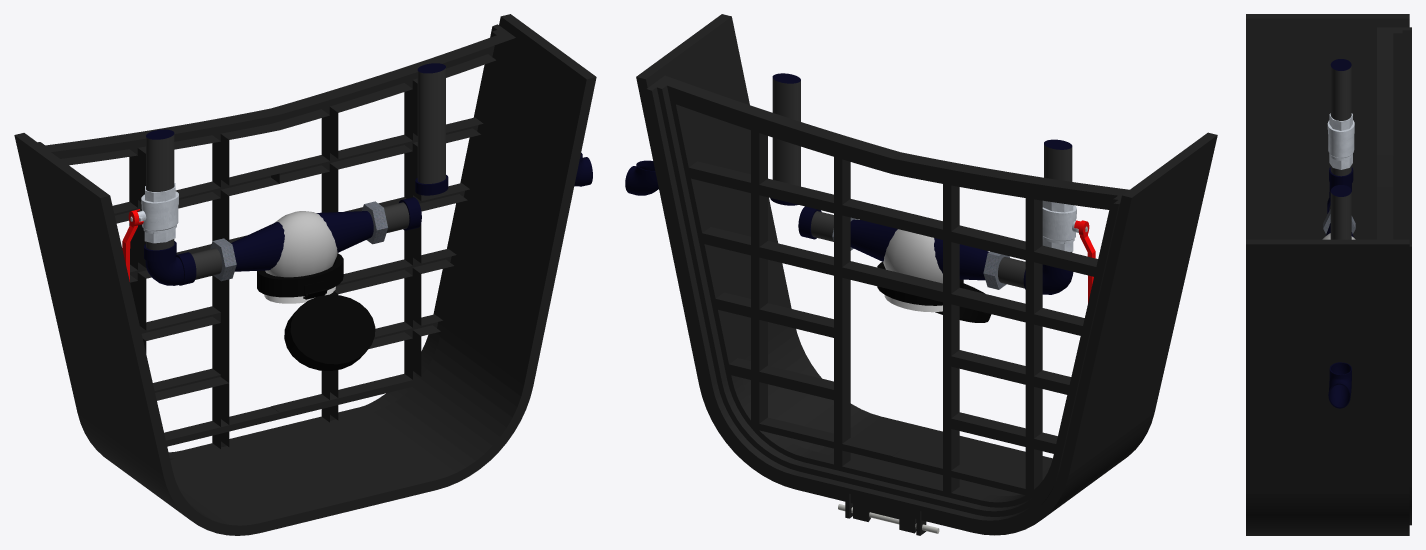
File: RegistroMedidor.fbx
The picture shows the model from 3 angles, left to right: view 1: azimuth 30°, elevation 25°; view 2: azimuth 150°, elevation 25°; view 3: azimuth 270°, elevation 25°; orthographic projection. The views are drawn at different scales.
Visible parts, largest first — view 1: group_ 3.028, group_ 5.015, group_ 2.056, group_ 3.027, group_.111, group_sphere, group_.109, group_.103, group_ 2.048, group_.106, group_ 2.050, group_ 3.026 (+2 smaller); view 2: group_ 5.015, group_ 2.056, group_ 3.028, group_.111, group_sphere, group_ 2.048, group_ 2.050, group_ 3.026, group_.109, group_.103, Toinzinho Velludo.001; view 3: group_ 3.028, group_ 2.056, group_ 5.015, group_.109, group_ 2.048, group_.111, Toinzinho Velludo.001.
Boxes of the visible parts, x1,y1,x2,y2 form: group_ 3.028: [280, 14, 596, 511]; group_ 5.015: [38, 24, 515, 472]; group_ 2.056: [14, 133, 348, 535]; group_ 3.027: [284, 294, 375, 370]; group_.111: [415, 63, 448, 195]; group_sphere: [265, 211, 337, 277]; group_.109: [144, 129, 176, 261]; group_.103: [231, 222, 284, 271]; group_ 2.048: [137, 183, 178, 243]; group_.106: [257, 253, 343, 297]; group_ 2.050: [316, 211, 373, 252]; group_ 3.026: [191, 238, 236, 281]; group_ 5.015: [646, 75, 1129, 525]; group_ 2.056: [884, 132, 1217, 535]; group_ 3.028: [636, 14, 969, 510]; group_.111: [770, 73, 800, 205]; group_sphere: [883, 229, 942, 283]; group_ 2.048: [1042, 200, 1078, 251]; group_ 2.050: [850, 219, 897, 261]; group_ 3.026: [983, 251, 1025, 289]; group_.109: [1042, 139, 1072, 271]; group_.103: [934, 238, 988, 280]; Toinzinho Velludo.001: [625, 160, 658, 195]; group_ 3.028: [1246, 239, 1409, 535]; group_ 2.056: [1246, 14, 1409, 239]; group_ 5.015: [1377, 27, 1411, 525]; group_.109: [1329, 59, 1353, 185]; group_ 2.048: [1327, 113, 1354, 169]; group_.111: [1330, 185, 1351, 239]; Toinzinho Velludo.001: [1328, 362, 1351, 408].
Bounding box in the file's own units: 0.3613 × 0.2495 × 0.1014.
11 materials, 4 textured.
